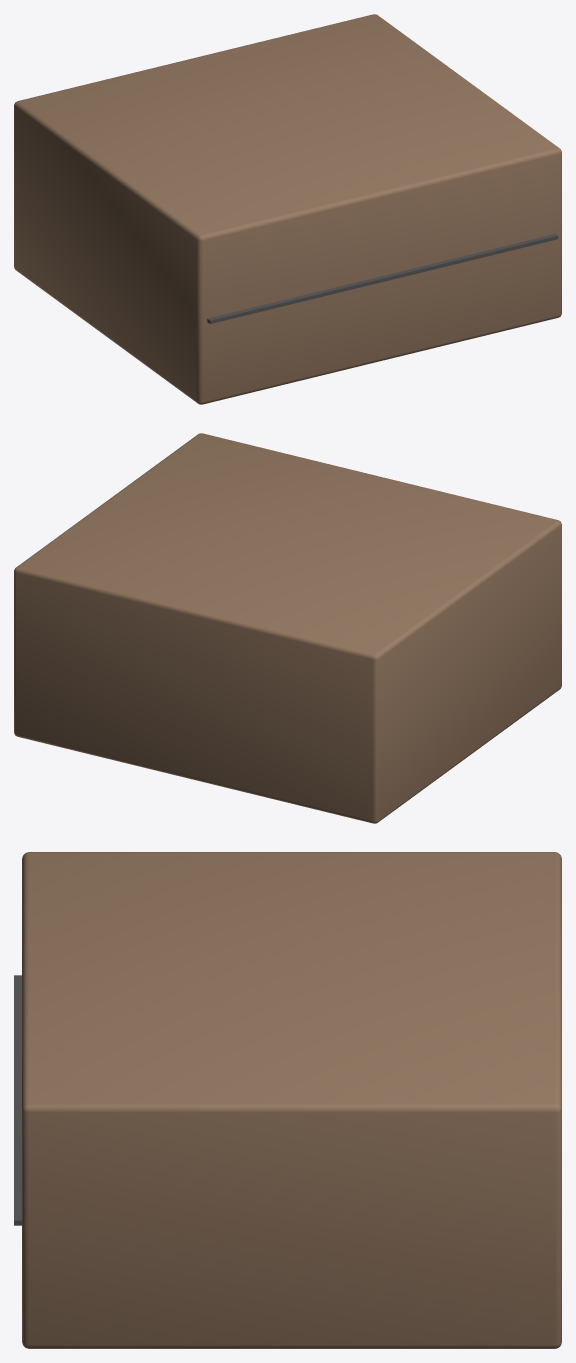
The model's file is it_nightstand_s.glb.
3 renders of one model, top to bottom at view 1: azimuth 30°, elevation 25°; view 2: azimuth 150°, elevation 25°; view 3: azimuth 270°, elevation 25°, orthographic. The views are drawn at different scales.
Visible parts, largest first — view 1: body, gap; view 2: body; view 3: body, gap.
Part boxes in pixels (x1,y1,x2,y2): body: (14,14,561,404); gap: (207,234,558,323); body: (14,433,561,823); body: (22,852,561,1348); gap: (14,975,21,1225).
Bounding box in the file's own units: 0.45 × 0.2 × 0.406.
